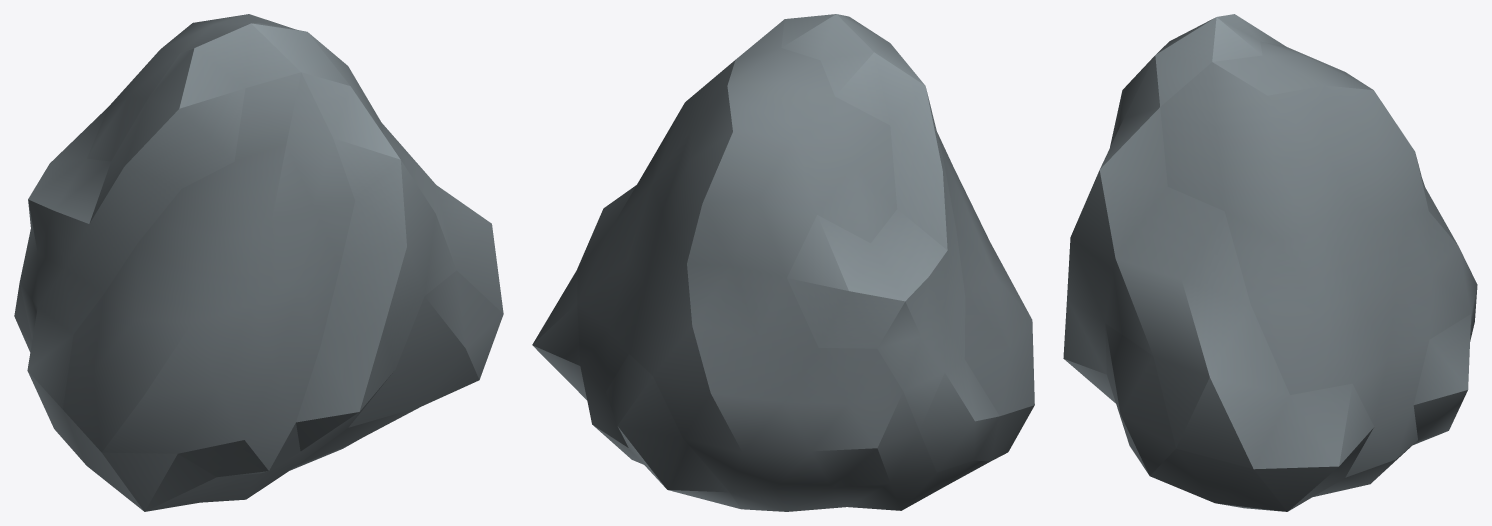
File: Rock_3_O_Color1.fbx
3 renders of one model, left to right at view 1: azimuth 30°, elevation 25°; view 2: azimuth 150°, elevation 25°; view 3: azimuth 270°, elevation 25°, orthographic. The views are drawn at different scales.
Parts seen in each view (by area): view 1: Rock_3_O_Color1; view 2: Rock_3_O_Color1; view 3: Rock_3_O_Color1.
Part boxes in pixels (x1,y1,x2,y2): Rock_3_O_Color1: (14,14,503,511); Rock_3_O_Color1: (532,14,1034,511); Rock_3_O_Color1: (1063,14,1477,511).
Bounding box in the file's own units: 3.48 × 3.47 × 2.93.
